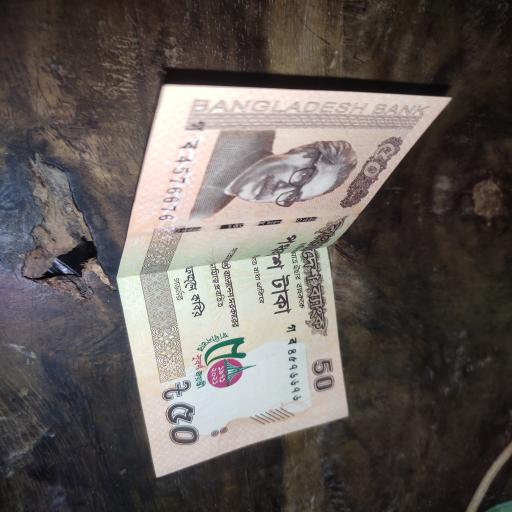50taka: (117, 85, 450, 478)
